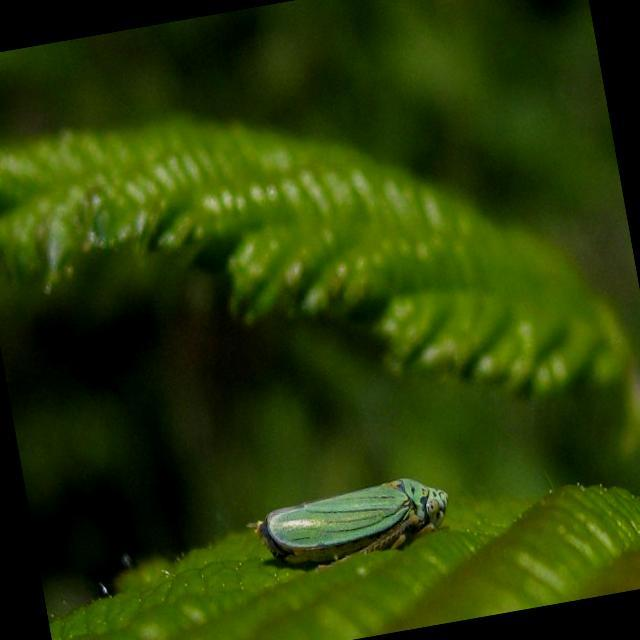green leaf hopper: (255, 479, 447, 565)
